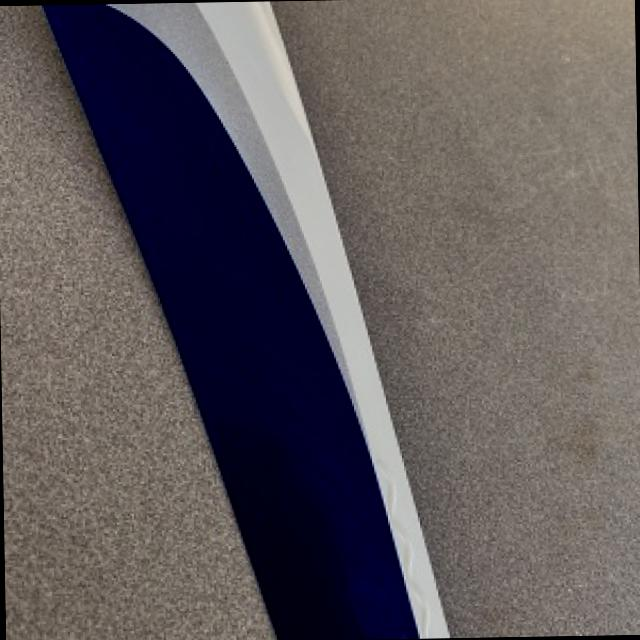healthy: (44, 1, 445, 636)
